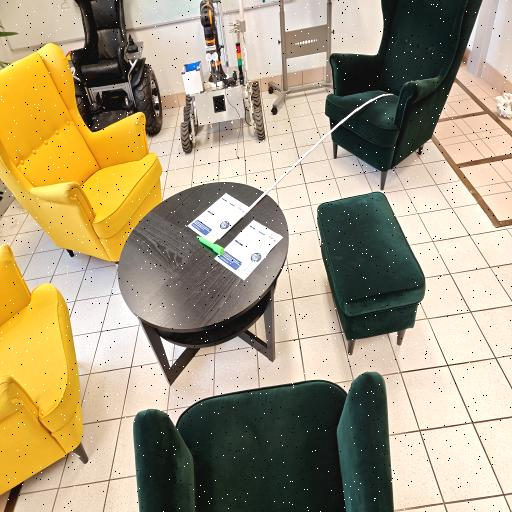Probe-Detection: (197, 236, 224, 255)
